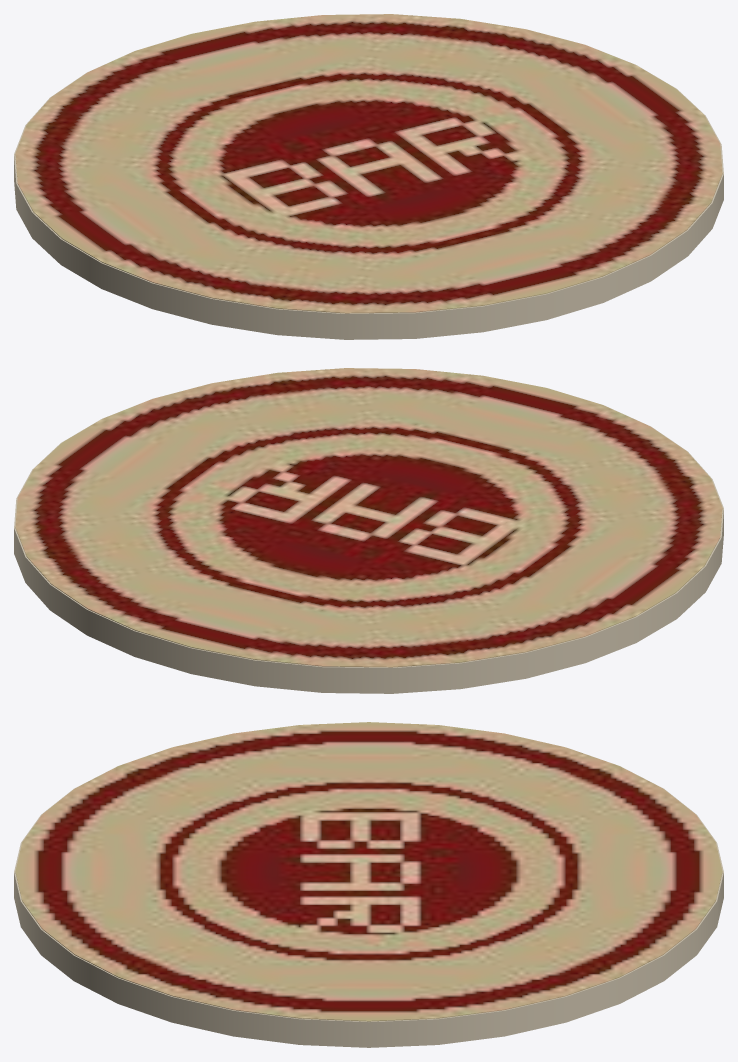
The model's file is coaster.glb.
3 views of the same model, one above another, from view 1: azimuth 30°, elevation 25°; view 2: azimuth 150°, elevation 25°; view 3: azimuth 270°, elevation 25° (orthographic).
Visible parts, largest first — view 1: Print, Coaster; view 2: Print, Coaster; view 3: Print, Coaster.
Part boxes in pixels (<box>): Print: <box>15,14,722,313</box>; Coaster: <box>14,44,723,339</box>; Print: <box>15,368,722,667</box>; Coaster: <box>14,398,723,693</box>; Print: <box>15,722,722,1021</box>; Coaster: <box>14,750,723,1047</box>.
Bounding box in the file's own units: 0.1 × 0.0041 × 0.1.
2 materials, 1 textured.
